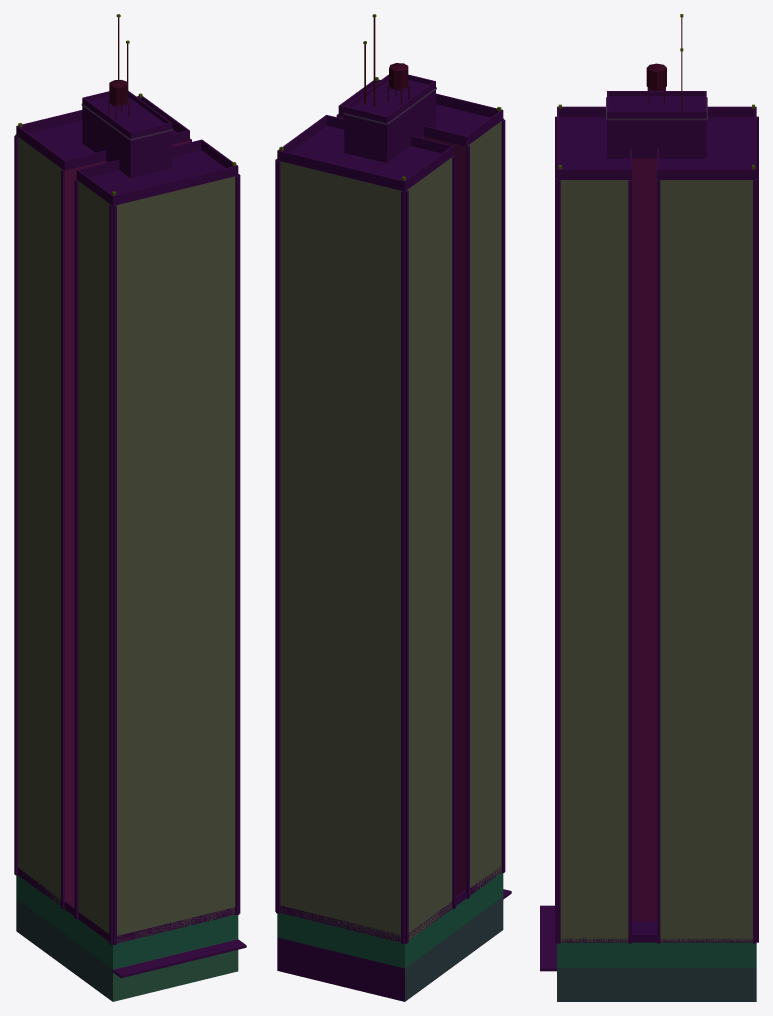
The model's file is restower_b.lod1.glb.
The picture shows the model from 3 angles, left to right: view 1: azimuth 30°, elevation 25°; view 2: azimuth 150°, elevation 25°; view 3: azimuth 270°, elevation 25°; orthographic projection. The views are drawn at different scales.
Parts seen in each view (by area): view 1: restower_b.lod1; view 2: restower_b.lod1; view 3: restower_b.lod1.
Boxes of the visible parts, x1,y1,x2,y2 form: restower_b.lod1: [14, 14, 246, 1001]; restower_b.lod1: [275, 14, 511, 1001]; restower_b.lod1: [540, 14, 758, 1001].
Size of the model in its own units: 19.79 by 136 by 28.1.
